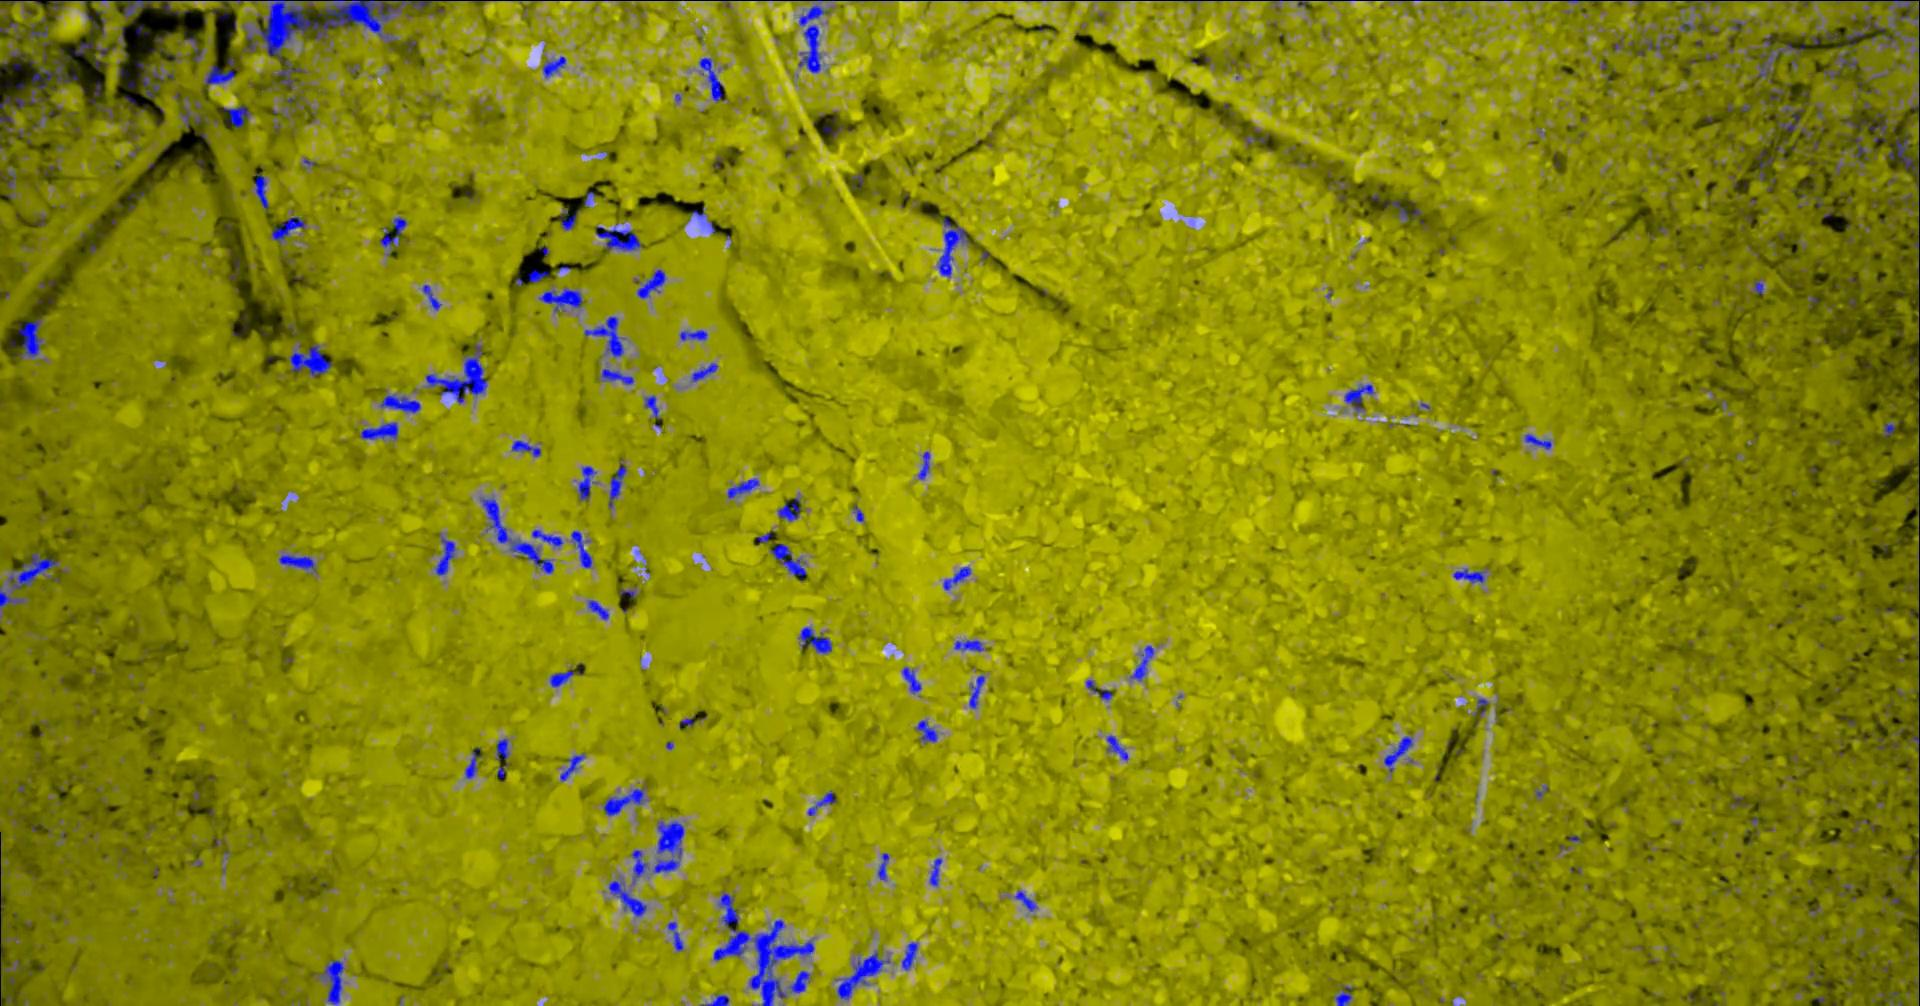ant: (0, 48, 77, 132), (480, 497, 552, 573), (836, 950, 889, 998), (1755, 34, 1804, 83), (937, 215, 971, 276), (797, 5, 828, 72), (1887, 132, 1919, 193), (8, 553, 58, 589), (651, 821, 683, 873), (584, 316, 623, 357), (770, 542, 806, 580), (608, 880, 646, 916), (113, 0, 188, 18), (290, 344, 331, 376), (1843, 112, 1886, 141), (698, 57, 725, 102), (596, 226, 641, 250), (13, 318, 41, 357), (603, 788, 643, 815), (1863, 15, 1898, 44), (135, 61, 164, 97), (1383, 735, 1412, 771), (1837, 28, 1863, 69), (538, 288, 582, 311), (323, 959, 343, 1005), (270, 216, 305, 243), (204, 57, 237, 84), (608, 459, 626, 508), (797, 626, 830, 653), (1883, 0, 1919, 24), (636, 269, 665, 298), (378, 216, 406, 246), (549, 662, 582, 687), (1343, 384, 1373, 412), (1130, 645, 1153, 680), (217, 104, 250, 127), (570, 530, 590, 567), (378, 394, 420, 412), (1383, 199, 1421, 218), (436, 537, 455, 575), (69, 41, 116, 56), (559, 753, 584, 781), (808, 790, 836, 815), (359, 422, 397, 439), (1909, 687, 1919, 752), (278, 554, 315, 572), (1775, 108, 1803, 131), (578, 465, 596, 499), (943, 567, 970, 589), (630, 848, 648, 883), (728, 478, 759, 497), (1084, 680, 1112, 700), (531, 528, 563, 546), (463, 747, 481, 779), (777, 497, 800, 521), (968, 674, 984, 708), (1849, 133, 1868, 161), (1756, 149, 1773, 180), (542, 55, 565, 77), (0, 584, 23, 607), (1106, 735, 1128, 760), (254, 173, 268, 210), (667, 921, 683, 951), (690, 363, 717, 381), (422, 285, 441, 310), (601, 368, 632, 384), (902, 667, 921, 692), (510, 439, 540, 456), (8, 48, 36, 65), (1451, 568, 1484, 582), (902, 941, 917, 970), (916, 720, 937, 741), (1015, 890, 1036, 911), (789, 970, 809, 992), (185, 36, 202, 61), (587, 600, 608, 619), (1524, 433, 1550, 448), (1810, 30, 1837, 44), (28, 17, 47, 37), (0, 171, 15, 197), (952, 639, 983, 652), (1903, 843, 1919, 869), (559, 208, 577, 229), (917, 451, 930, 479), (495, 738, 509, 763), (1911, 215, 1919, 260), (644, 395, 659, 418), (930, 857, 941, 887), (679, 329, 707, 340), (1335, 986, 1351, 1005), (89, 79, 102, 103), (527, 268, 549, 282), (1879, 991, 1901, 1005), (95, 103, 113, 119), (877, 852, 888, 880), (700, 995, 728, 1005), (1473, 699, 1488, 716), (241, 36, 257, 52), (1244, 133, 1269, 144), (180, 105, 190, 127), (48, 0, 67, 11), (852, 506, 863, 521), (1882, 423, 1895, 436), (1752, 279, 1763, 293), (1917, 465, 1919, 516)
